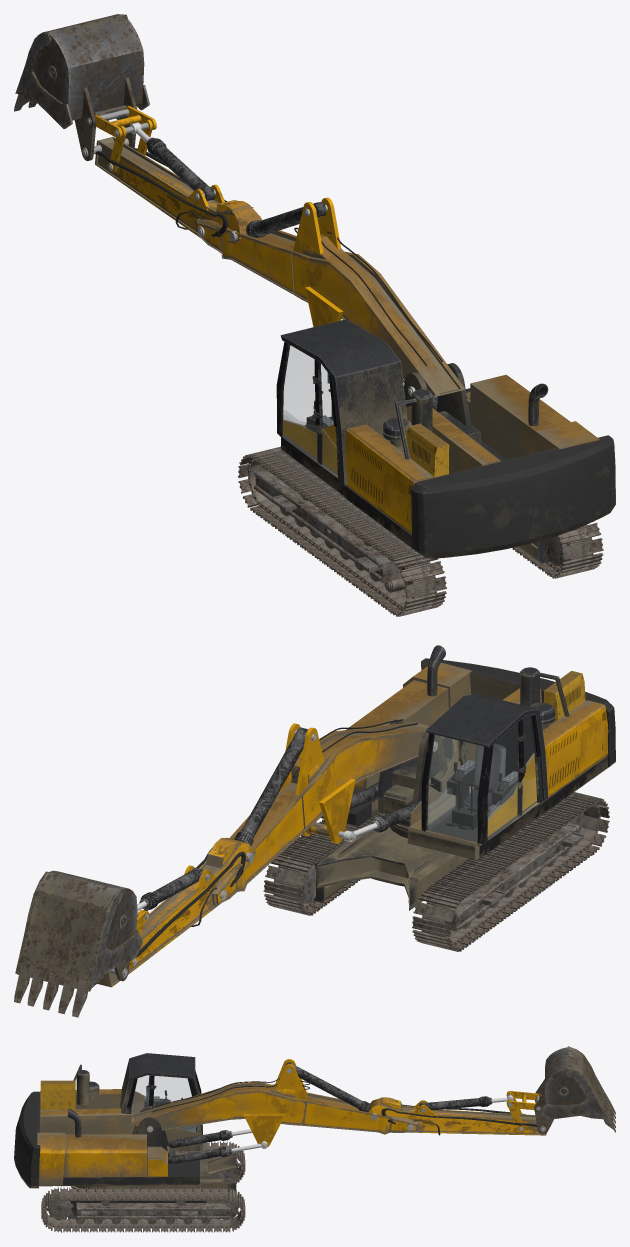
File: excavator.gltf
3 renders of one model, top to bottom at view 1: azimuth 30°, elevation 25°; view 2: azimuth 150°, elevation 25°; view 3: azimuth 270°, elevation 25°, orthographic. The views are drawn at different scales.
Parts seen in each view (by area): view 1: Turret_CounterweightDeck, Turret_Body, Undercarriage, Boom_Body, Bucket_Body, Cab_RoofRearWall, Stick_Body, Cab_Glass, Undercarriage_LeftTrackFrame, Cab_Frame, Turret_Radiator, Boom_StickCylinderEars (+5 smaller); view 2: Turret_Body, Undercarriage, Bucket_Body, Boom_Body, Cab_Glass, Undercarriage_Carbody, Cab_RoofRearWall, Stick_Body, Undercarriage_LeftTrackFrame, Turret_CounterweightDeck, Cab_Frame, StickCylinderBarrel_Tube (+15 smaller); view 3: Turret_Body, Boom_Body, Undercarriage, Bucket_Body, Turret_CounterweightDeck, Stick_Body, Undercarriage_RightTrackFrame, Cab_RoofRearWall, Undercarriage_Carbody, Cab_Glass, Turret_Radiator, Boom_CylinderRodEars (+13 smaller).
Boxes of the visible parts, x1,y1,x2,y2 form: Turret_CounterweightDeck: (411, 388, 615, 558); Turret_Body: (281, 374, 599, 547); Undercarriage: (238, 446, 603, 616); Boom_Body: (196, 218, 465, 396); Bucket_Body: (14, 14, 149, 128); Cab_RoofRearWall: (280, 319, 407, 484); Stick_Body: (95, 136, 261, 243); Cab_Glass: (282, 345, 339, 478); Undercarriage_LeftTrackFrame: (254, 468, 405, 592); Cab_Frame: (276, 342, 340, 479); Turret_Radiator: (406, 423, 449, 477); Boom_StickCylinderEars: (293, 197, 340, 254); Turret_Body: (346, 662, 608, 859); Undercarriage: (263, 792, 609, 951); Bucket_Body: (14, 870, 142, 1017); Boom_Body: (211, 722, 429, 906); Cab_Glass: (426, 716, 542, 844); Undercarriage_Carbody: (317, 813, 467, 910); Cab_RoofRearWall: (425, 694, 548, 800); Stick_Body: (97, 837, 255, 987); Undercarriage_LeftTrackFrame: (445, 823, 583, 931); Turret_CounterweightDeck: (346, 658, 615, 826); Cab_Frame: (421, 715, 543, 844); StickCylinderBarrel_Tube: (234, 730, 306, 845); Turret_Body: (37, 1089, 202, 1185); Boom_Body: (131, 1082, 419, 1134); Undercarriage: (41, 1141, 245, 1232); Bucket_Body: (540, 1046, 615, 1132); Turret_CounterweightDeck: (14, 1091, 199, 1188); Stick_Body: (367, 1097, 546, 1135); Undercarriage_RightTrackFrame: (76, 1200, 230, 1224); Cab_RoofRearWall: (120, 1053, 195, 1113); Undercarriage_Carbody: (71, 1153, 237, 1191); Cab_Glass: (127, 1075, 200, 1134); Turret_Radiator: (40, 1080, 75, 1109); Boom_CylinderRodEars: (243, 1114, 284, 1147).
Size of the model in its own units: 3.14 by 3.67 by 13.17.
Materials: 24 (14 with a texture image).
